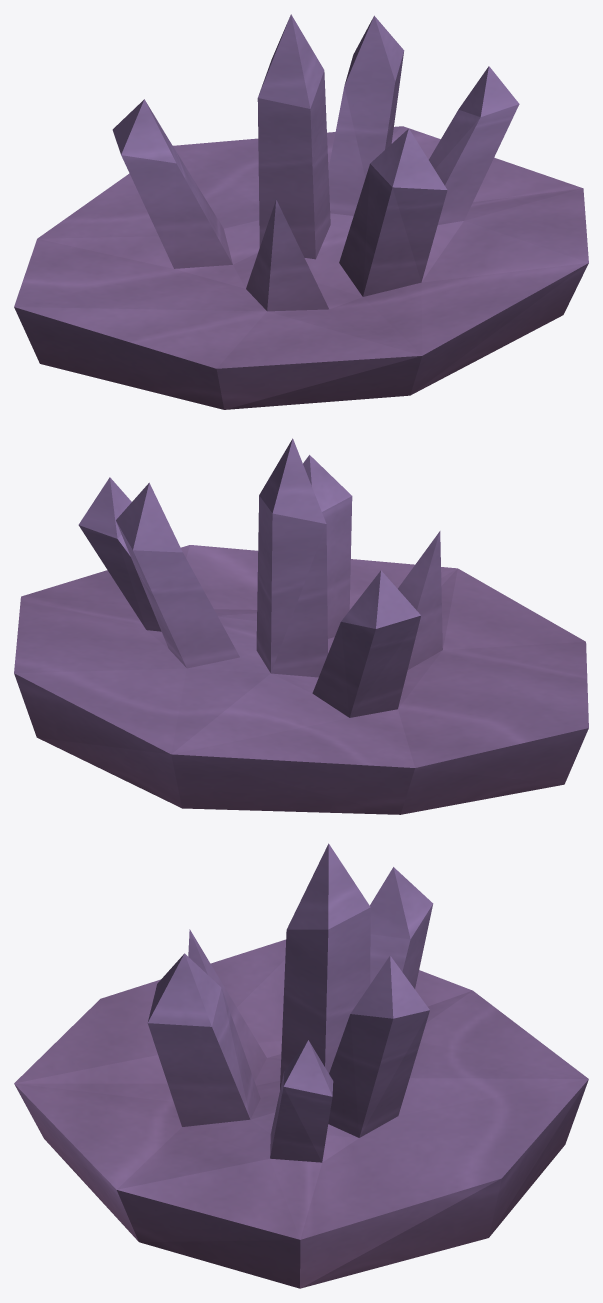
File: crystal_amethyst_druse.glb
3 views of the same model, one above another, from view 1: azimuth 30°, elevation 25°; view 2: azimuth 150°, elevation 25°; view 3: azimuth 270°, elevation 25° (orthographic). The views are drawn at different scales.
Visible parts, largest first — view 1: crystal_amethyst_druse; view 2: crystal_amethyst_druse; view 3: crystal_amethyst_druse.
Part boxes in pixels (x1,y1,x2,y2): crystal_amethyst_druse: [14, 14, 588, 409]; crystal_amethyst_druse: [14, 438, 588, 814]; crystal_amethyst_druse: [14, 843, 588, 1288].
Bounding box in the file's own units: 1.36 × 0.65 × 1.12.
Materials: 1 (1 with a texture image).
